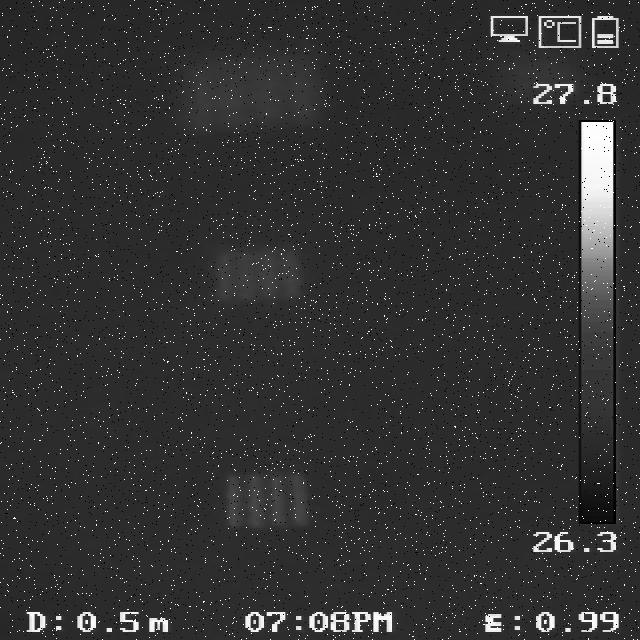Indistinguishable 4-bar target: (189, 49, 331, 131), (514, 52, 590, 106), (219, 249, 300, 297)
threshold 4-bar target: (222, 471, 318, 529)
